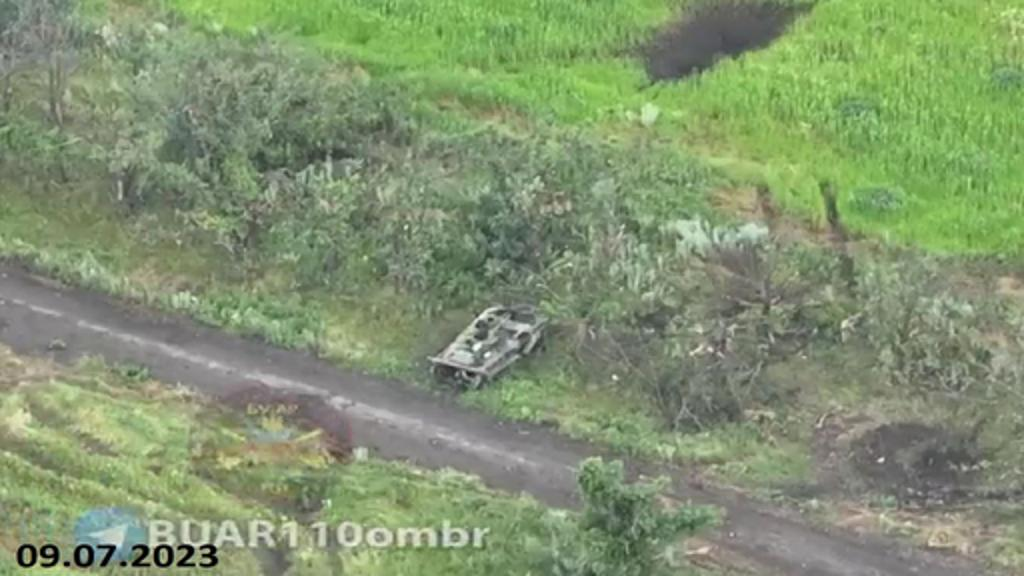APC-IFV: (420, 294, 540, 396)
